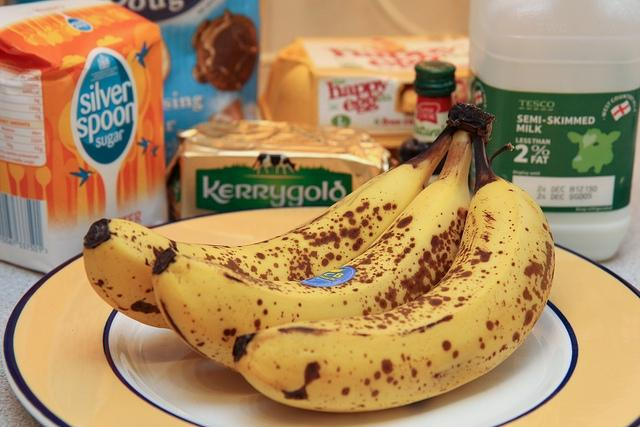banana: (231, 136, 557, 413), (152, 129, 474, 373), (83, 120, 457, 330)
